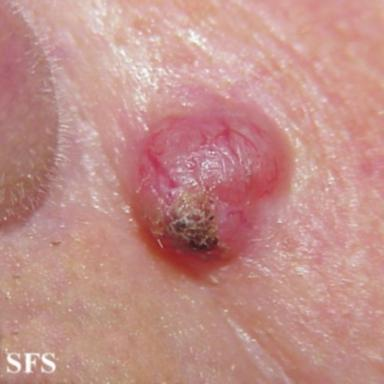basal-cell-carcinoma: (129, 101, 291, 278)
